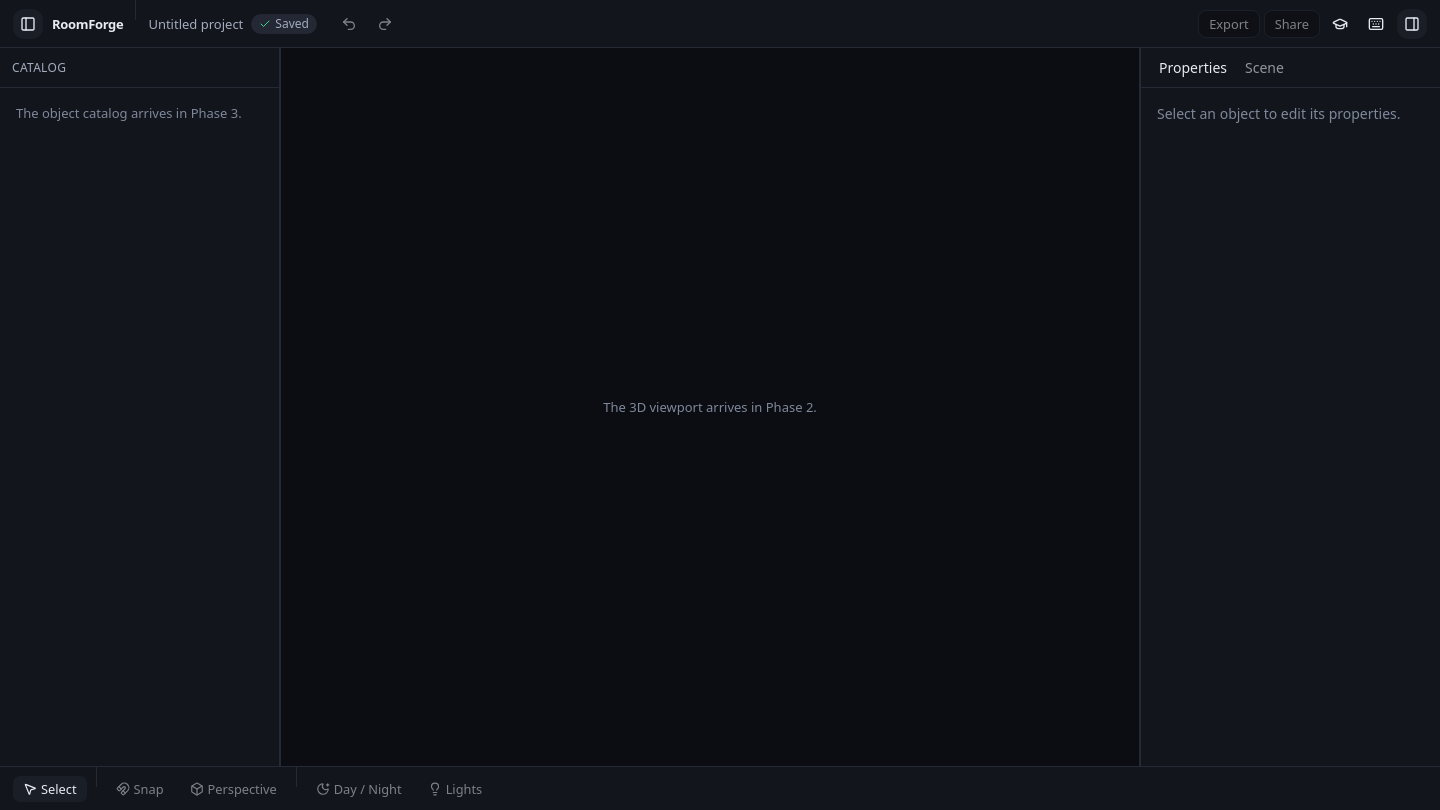
Test: EditorShell — docked (≥ 1024 px) › shows the scene content in the Scene tab of the right panel
The image size is (1440, 810).
Expected: the text "outline here" is not shown
Click the tab "Scene" at (1264,68), box [1238,54,1291,80]
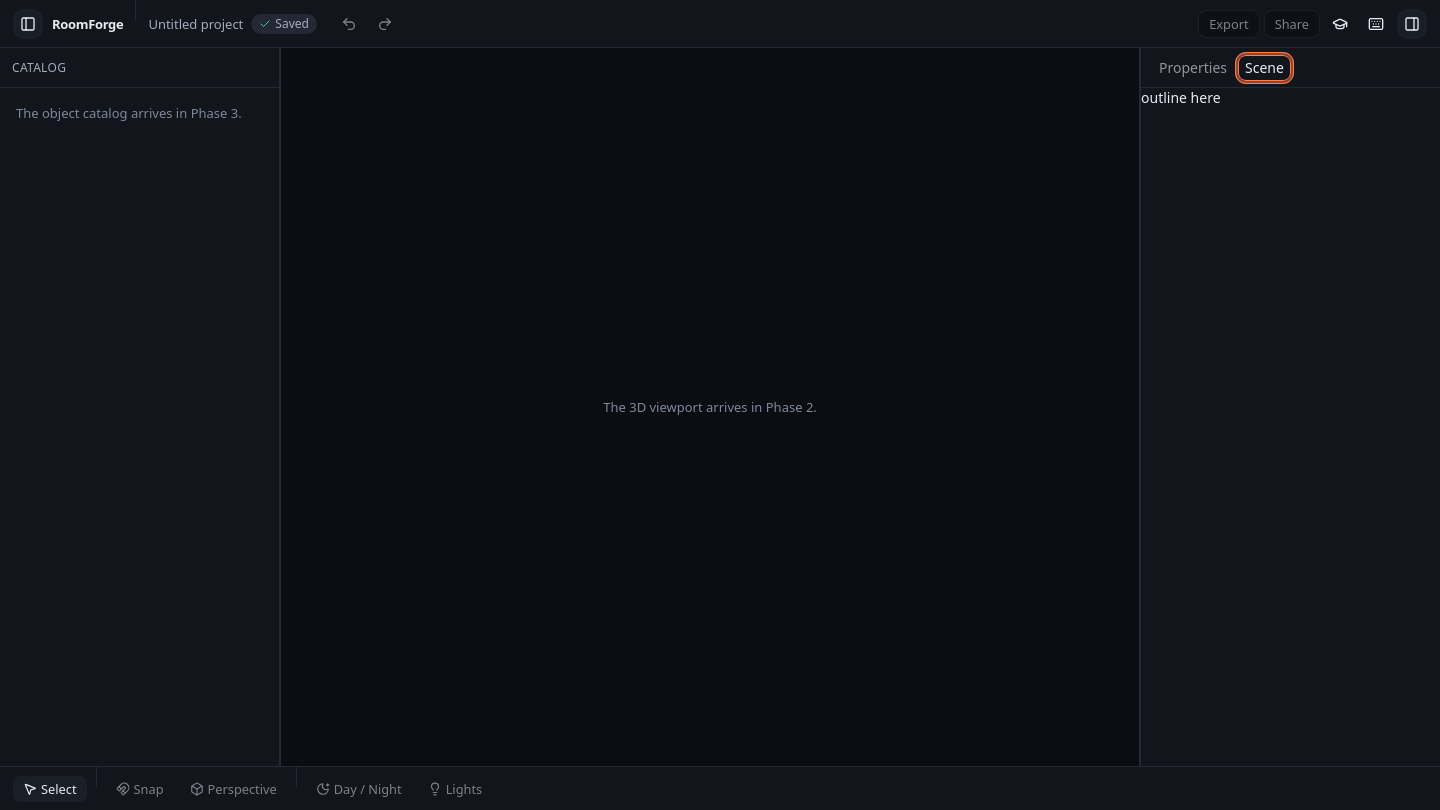
Expected: the text "outline here" is shown, [1141,88,1220,107]
